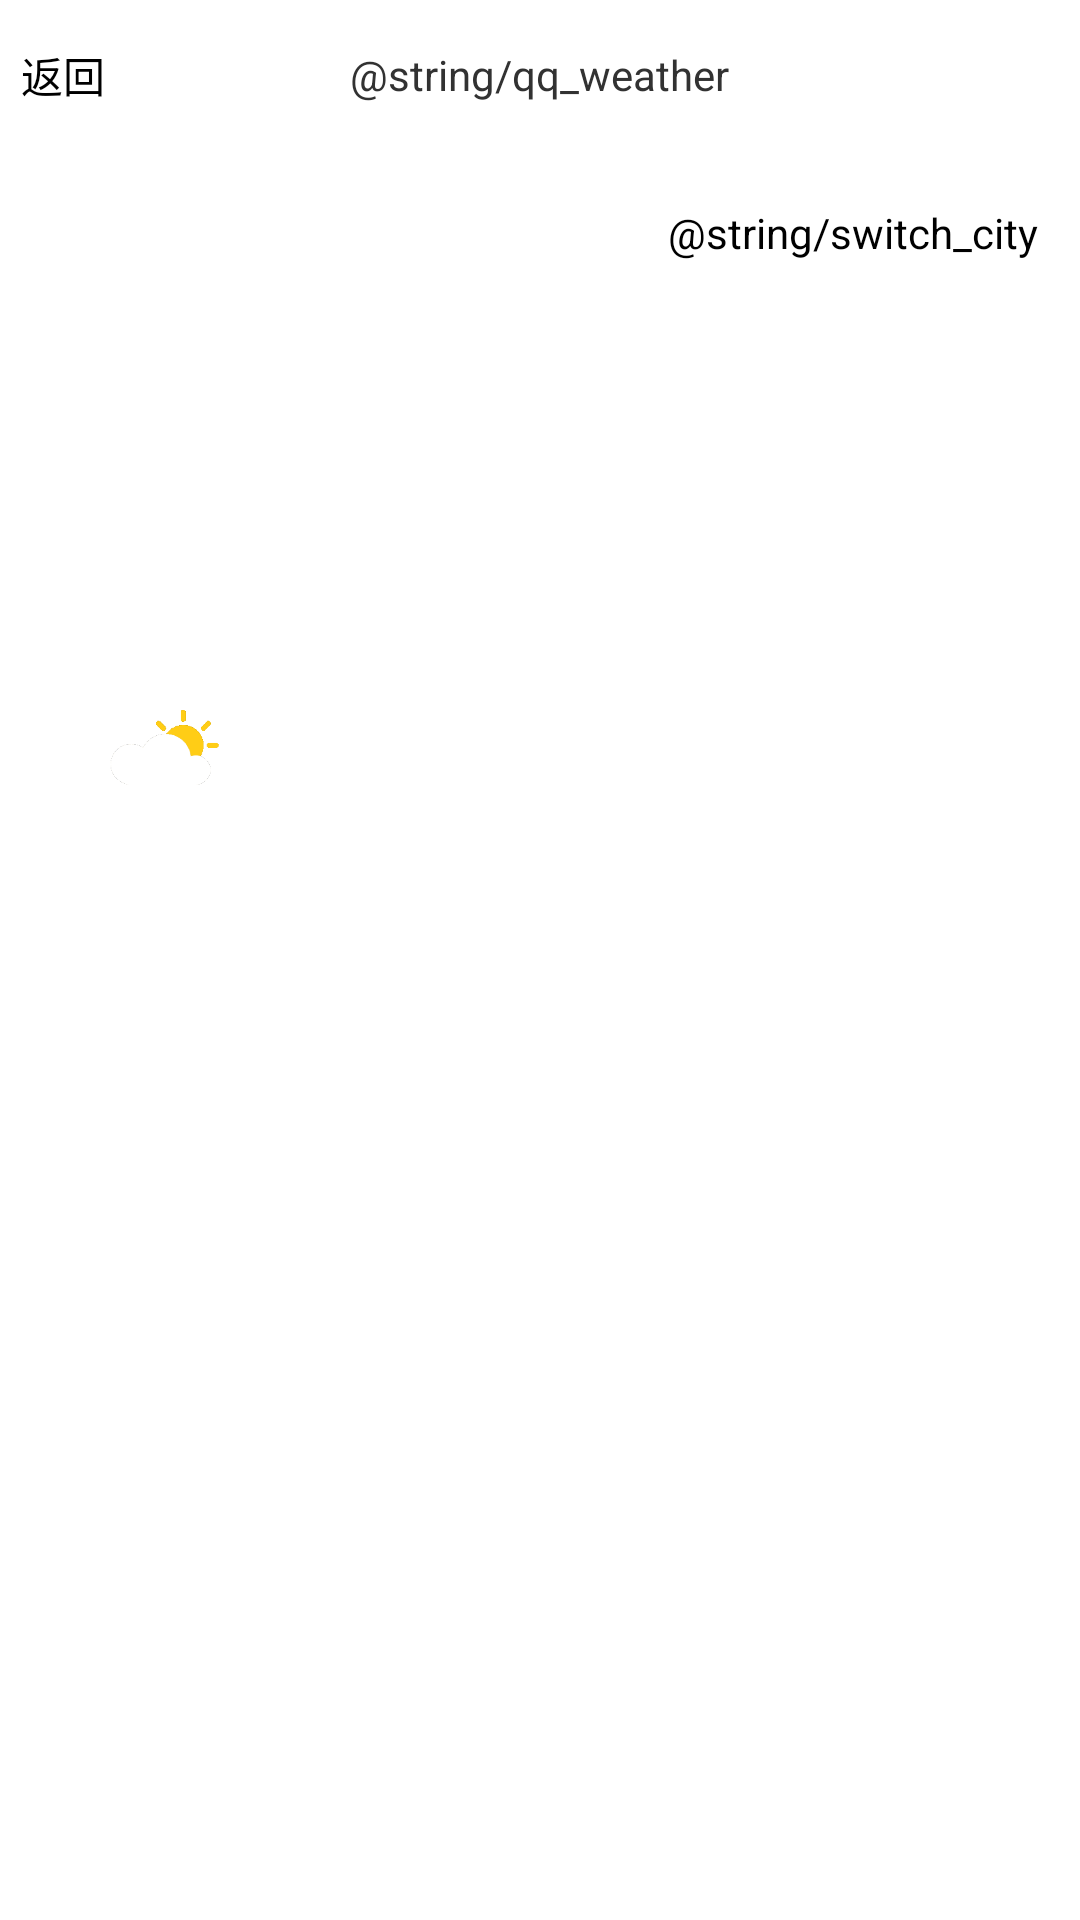

Screen size 1080px x 1920px. Icon name, then its box in pixels as [x1,y1,x2,y2]:
setting weather: [111,710,219,784]
